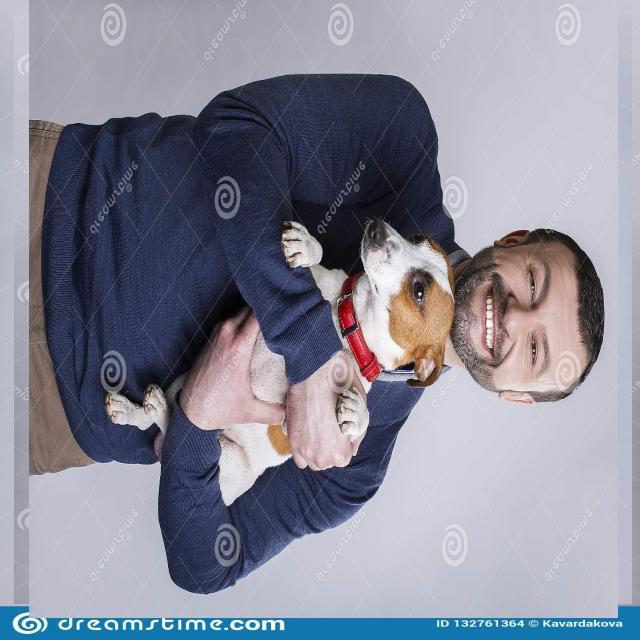NotFall: (50, 57, 640, 640)
